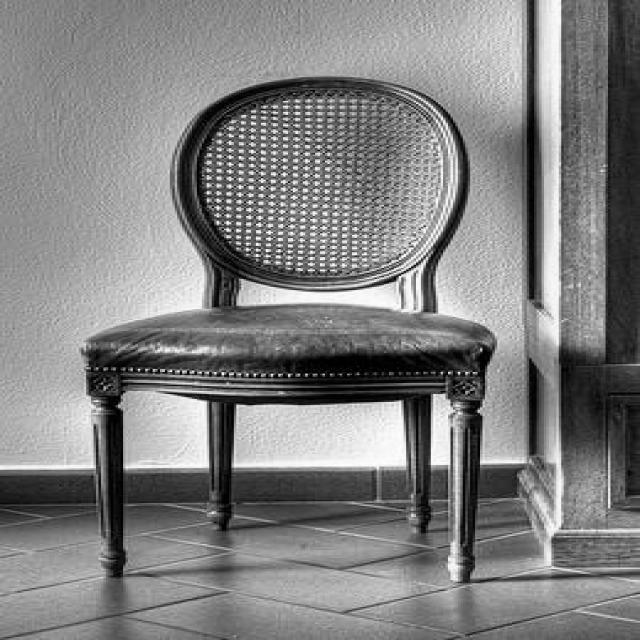chair: (82, 74, 499, 584)
